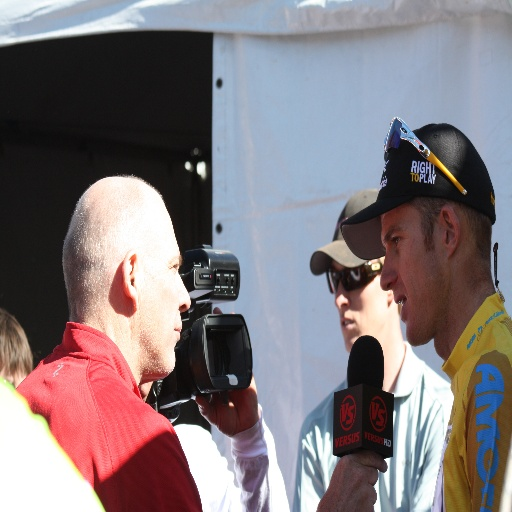hand: (209, 357, 282, 491), (315, 451, 388, 511)
